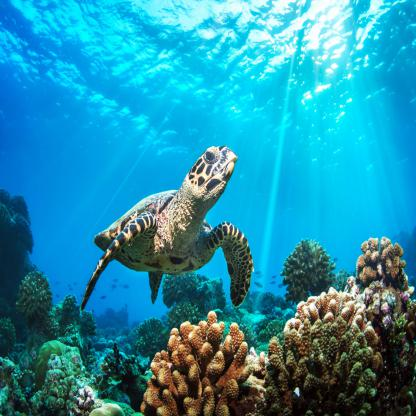turtle: (185, 138, 240, 208)
